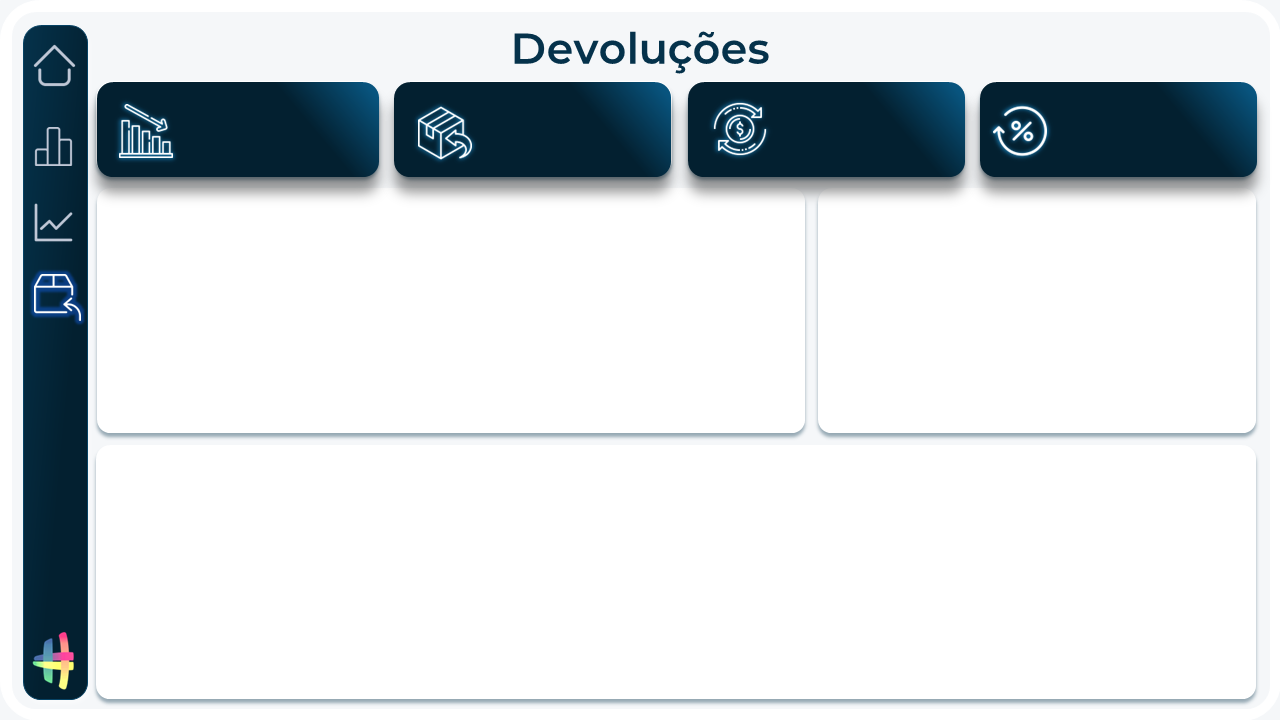

Layout of this report page (visuals, bound fields, positions):
{"tool":"powerbi","page":{"name":"Devoluções","canvas":[1280,720],"ordinal":3},"visuals":[{"type":"multiRowCard","title":"Faturamento Perdido","fields":{"Values":["Medidas.Faturamento Perdido"]},"box":[180.1,106.5,192.7,59.1],"z":0},{"type":"multiRowCard","title":"Qtd Devoluções","fields":{"Values":["Medidas.Total Devoluções"]},"box":[484.1,106.5,192.7,59.1],"z":1000},{"type":"multiRowCard","title":"Faturamento Perdido %","fields":{"Values":["Medidas.% Fat Perdido"]},"box":[779.4,106.5,192.7,59.1],"z":2000},{"type":"multiRowCard","title":"Devoluções %","fields":{"Values":["Medidas.% Devoluções"]},"box":[1061.2,106.5,192.7,59.1],"z":3000},{"type":"areaChart","title":"% Devoluções Mensal","fields":{"Category":["dCalendario.Inicio do Mês"],"Y":["Medidas.% Devoluções"]},"box":[99.7,192.7,698.1,236.2],"z":4000},{"type":"map","title":"% Devoluções por Cliente","fields":{"Category":["dLojas.Continente"],"Size":["Medidas.% Devoluções"]},"box":[823.2,193.1,431,236.2],"z":5000},{"type":"columnChart","fields":{"Y":["Medidas.% Devoluções"],"Category":["dProdutos.Marca"]},"box":[100,452.5,1154.2,243.1],"z":6000},{"type":"PBI_CV_16948668_E17D_454B_8664_2F2C470EA8C1","fields":{"category":["dProdutos.Tipo do Produto"]},"box":[100,31.9,399.9,43.1],"z":7000},{"type":"actionButton","box":[32.6,43.4,44.6,48.2],"z":7001},{"type":"actionButton","box":[30.2,127.8,47,39.8],"z":7002},{"type":"actionButton","box":[31.4,200.2,47,48.2],"z":7003},{"type":"actionButton","box":[30.2,267.7,47,49.4],"z":7004}]}

Visuals, with their boxes on the page's 1280x720 design canvas (x1, y1, x2, y2). These are canvas units, not pixel positions in the 1280x720 screenshot, which may show the page scaled, cropped or inside an application window:
"Faturamento Perdido" multiRowCard: 180/106/373/166
"Qtd Devoluções" multiRowCard: 484/106/677/166
"Faturamento Perdido %" multiRowCard: 779/106/972/166
"Devoluções %" multiRowCard: 1061/106/1254/166
"% Devoluções Mensal" areaChart: 100/193/798/429
"% Devoluções por Cliente" map: 823/193/1254/429
columnChart - Medidas.% Devoluções x dProdutos.Marca: 100/452/1254/696
PBI_CV_16948668_E17D_454B_8664_2F2C470EA8C1 - dProdutos.Tipo do Produto: 100/32/500/75
actionButton: 33/43/77/92
actionButton: 30/128/77/168
actionButton: 31/200/78/248
actionButton: 30/268/77/317
